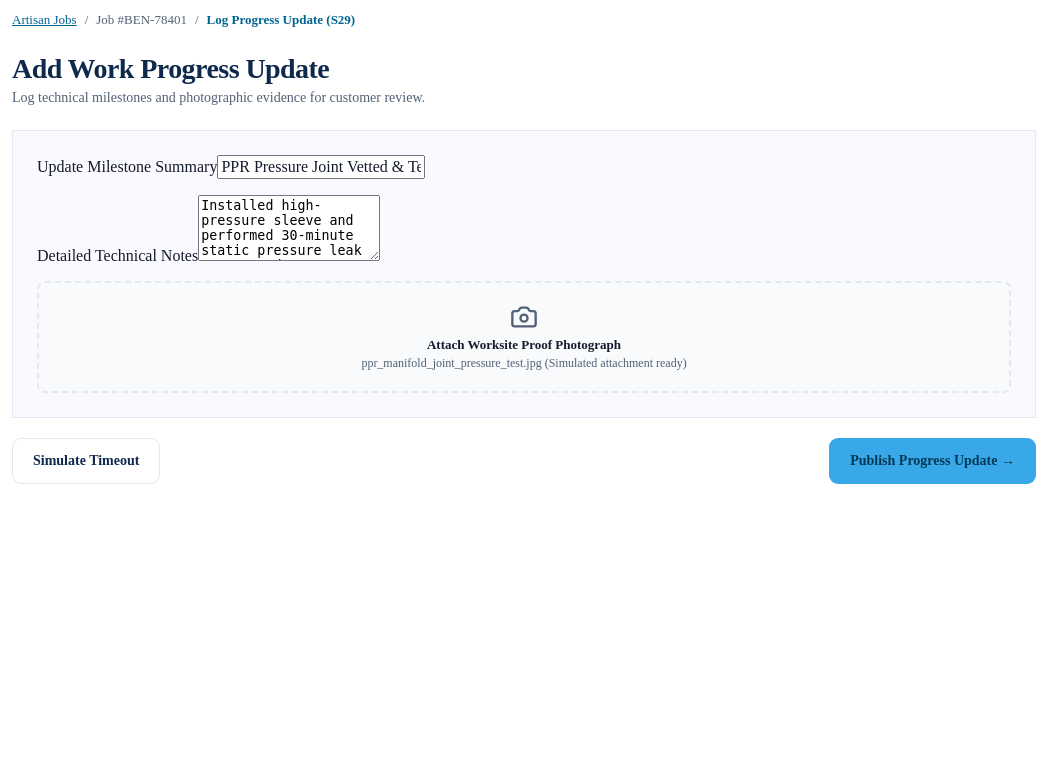
it: Job Lifecycle & Work Progress (S26, S27, S28, S29, S30) › renders S29 Artisan Add Progress Update form and posts technical update
Expected: the heading "Add Work Progress Update" is shown, [12,53,329,84]
Step 1. Click the button "Publish Progress Update →" → (933,461), box [829,438,1036,484]
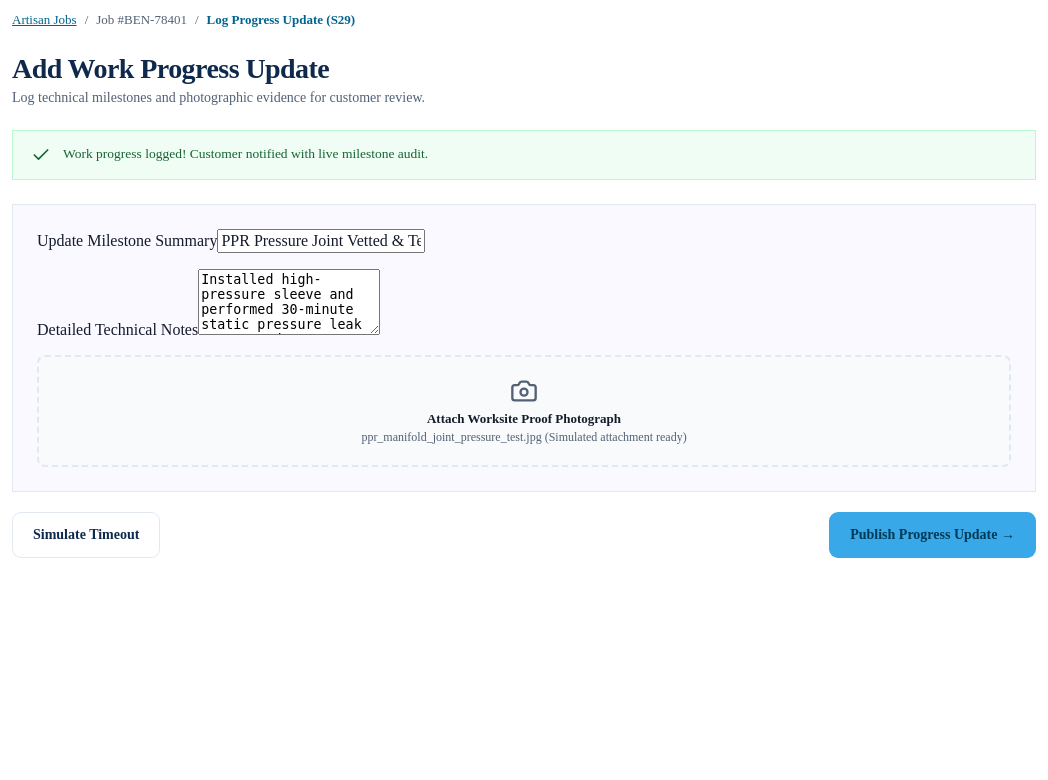
Expected: the text "Work progress logged" is shown, [63,146,428,161]
